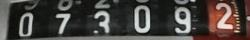digits: (50, 0, 75, 37), (90, 0, 113, 40), (16, 0, 37, 38), (133, 4, 150, 32), (215, 2, 233, 28), (172, 6, 190, 32)
